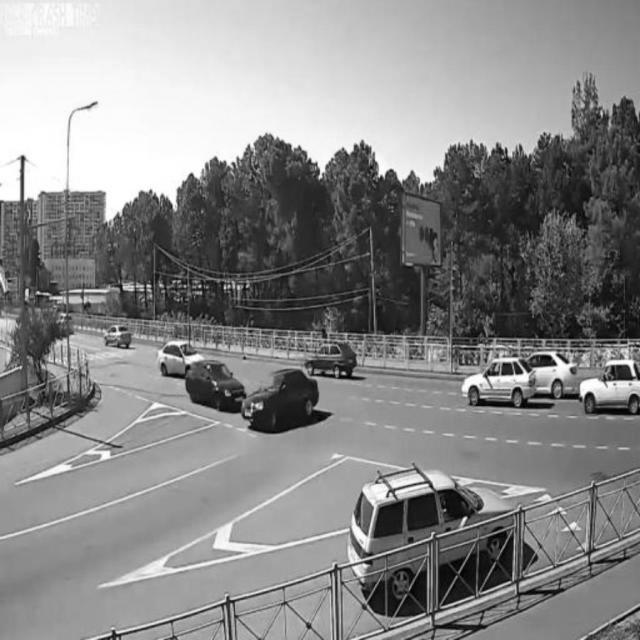vehicle: (351, 472, 518, 596), (246, 366, 317, 436), (462, 359, 535, 409), (186, 357, 246, 414), (580, 357, 640, 414), (305, 335, 359, 386), (155, 330, 201, 381), (536, 350, 573, 401), (99, 320, 133, 352)
